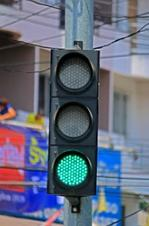green_light: (47, 49, 100, 195)
